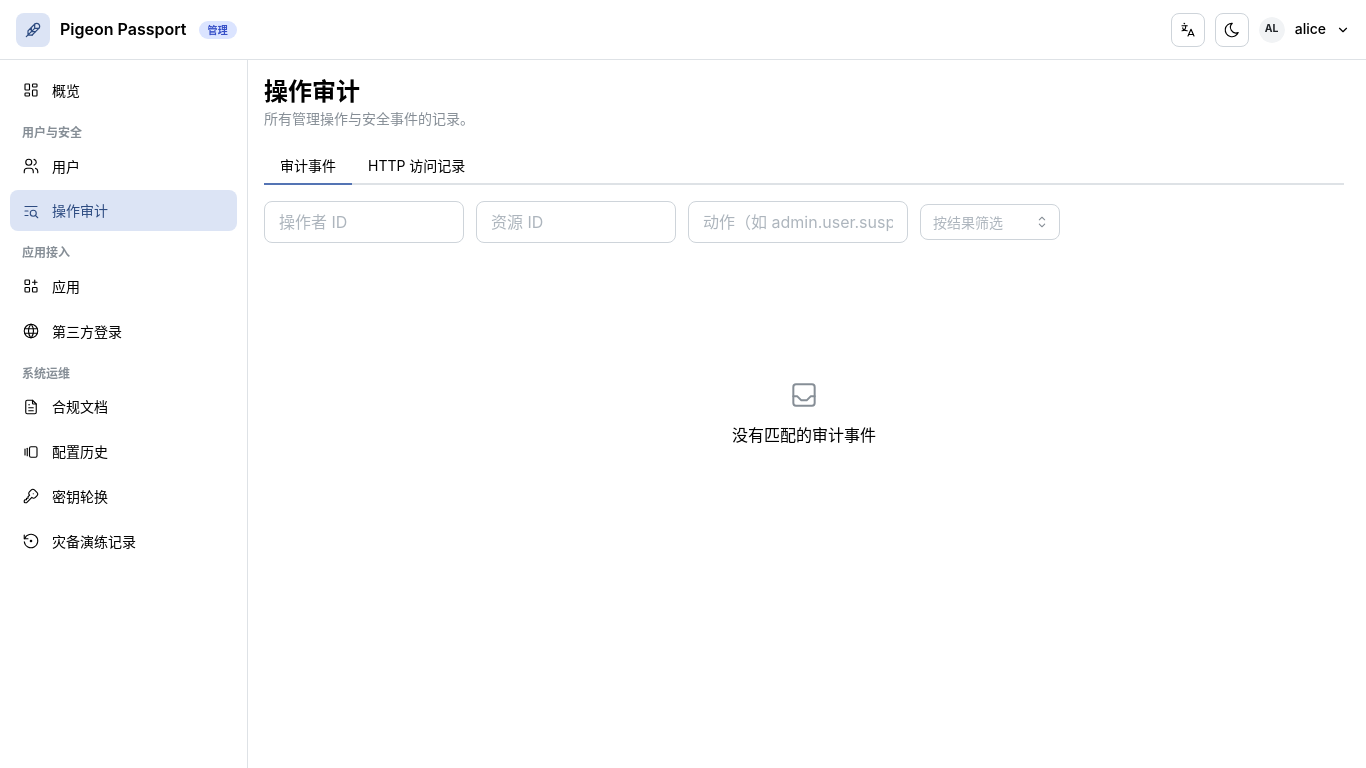
Scenario: admin audit events page › lists http access records and opens a record detail modal
Click the tab "HTTP 访问记录". click: x=417, y=168
box: [352,150,481,186]
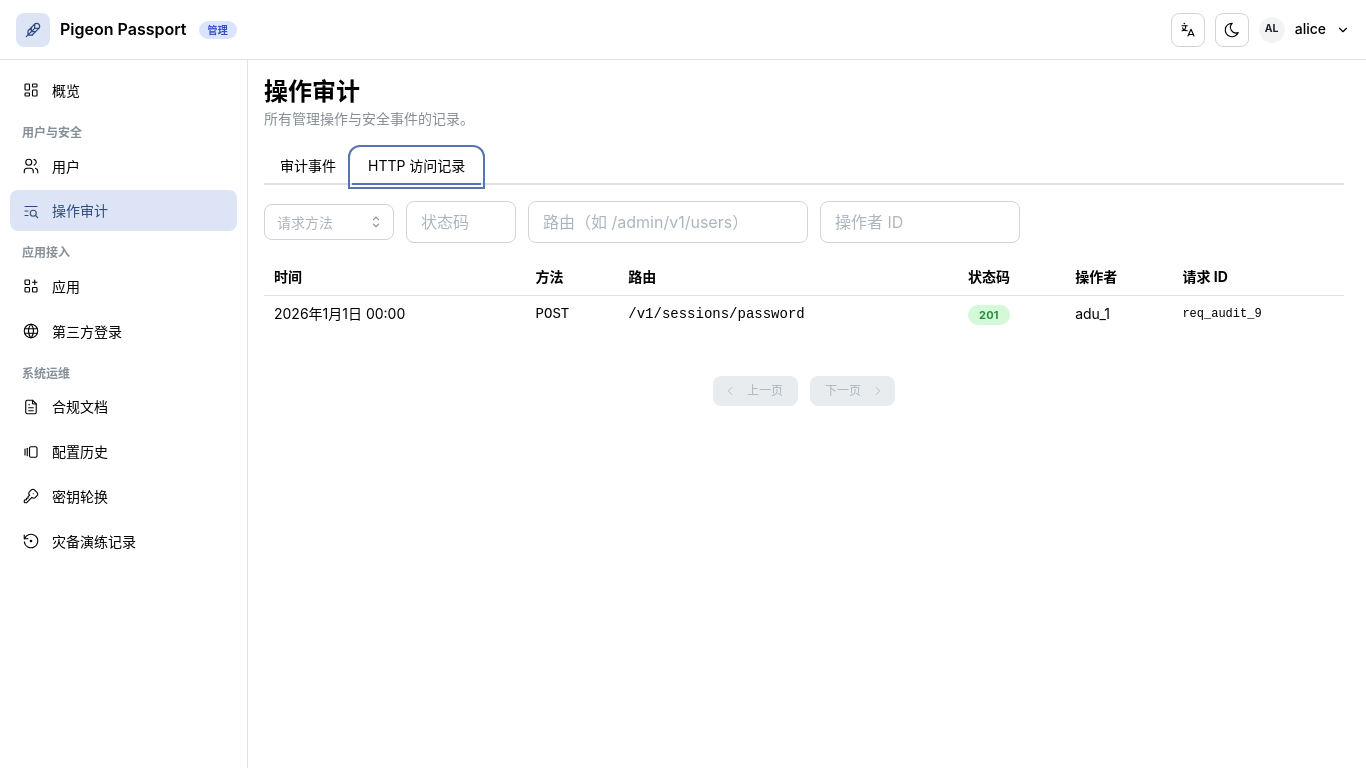
Check: the text "/v1/sessions/password" is shown
Click the text "/v1/sessions/password". click: x=716, y=314
box: [628,306,805,322]
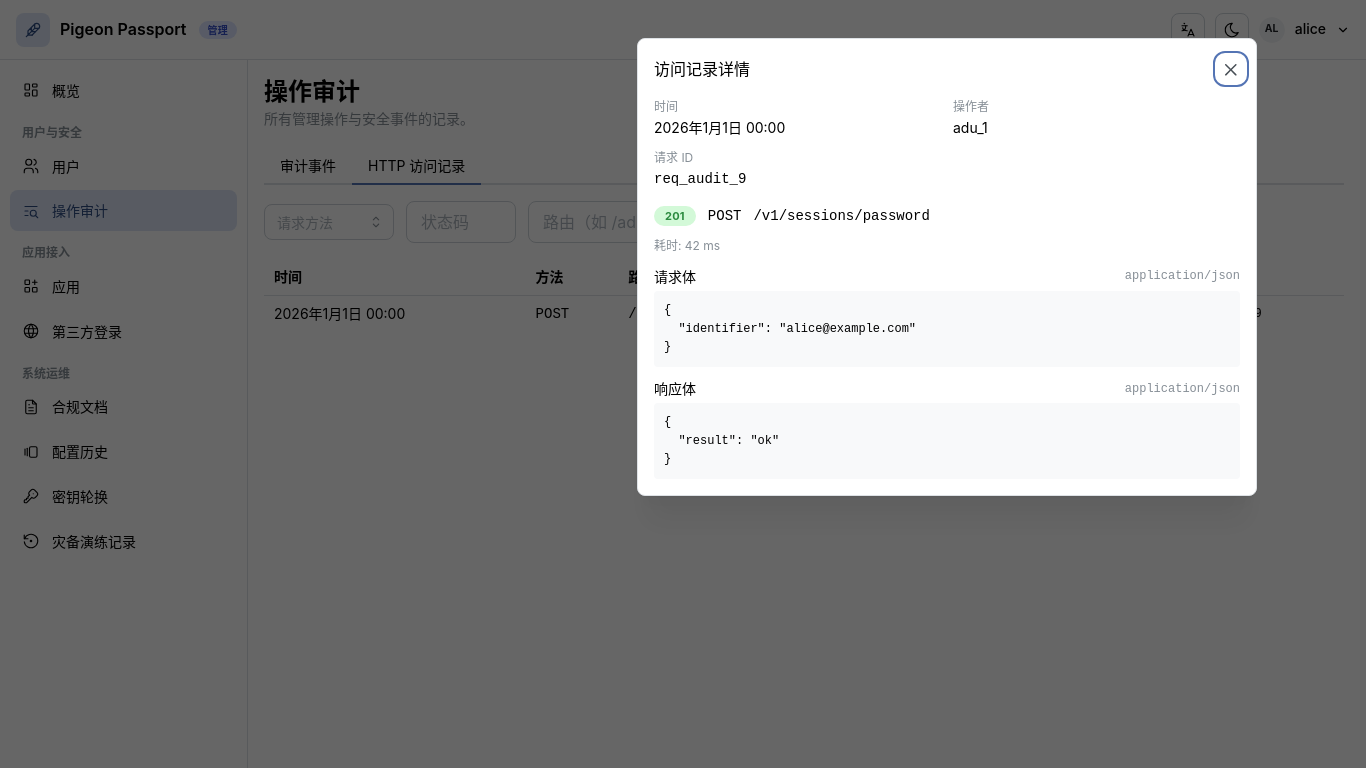
Check: the heading "访问记录详情" is shown, box [654,61,750,77]
Check: the text "req_audit_9" is shown, box [654,171,746,187]
Check: the text "{ \"identifier\": \"alice@example.com\" }" is shown, box [654,291,1240,367]
